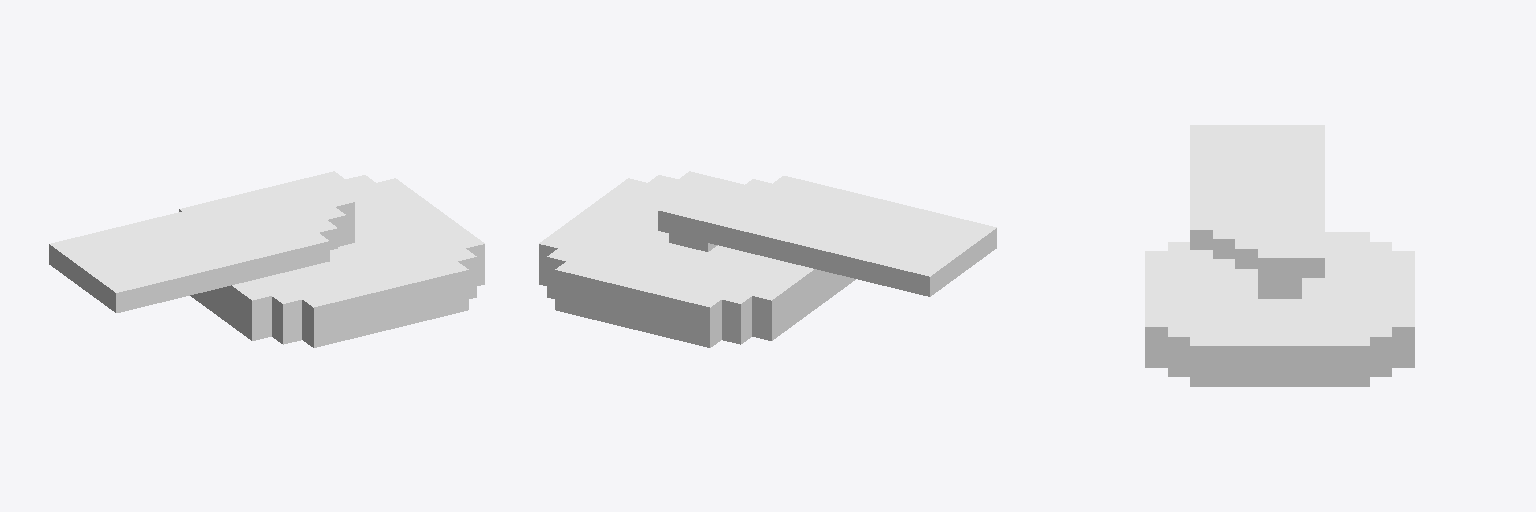
File: WingsPilderL.obj
3 renders of one model, left to right at view 1: azimuth 30°, elevation 25°; view 2: azimuth 150°, elevation 25°; view 3: azimuth 270°, elevation 25°, orthographic.
Parts seen in each view (by area): view 1: WingsPilderL; view 2: WingsPilderL; view 3: WingsPilderL.
Part boxes in pixels (x1,y1,x2,y2): WingsPilderL: (49, 171, 484, 347); WingsPilderL: (539, 171, 996, 347); WingsPilderL: (1145, 125, 1414, 386).
Bounding box in the file's own units: 19 × 4 × 12.